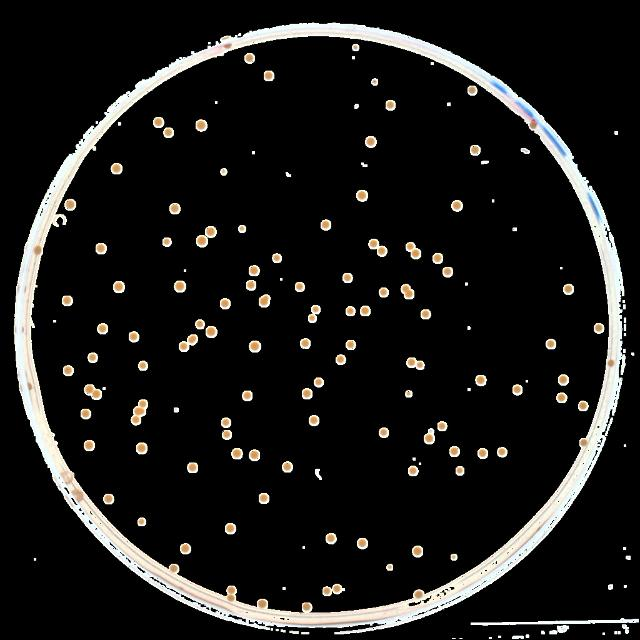colony: (187, 459, 199, 475), (168, 563, 180, 577), (134, 442, 148, 454), (248, 449, 260, 463), (112, 281, 126, 293), (256, 598, 268, 610), (225, 522, 237, 534), (282, 462, 294, 474), (511, 384, 523, 396), (356, 190, 368, 202), (248, 340, 260, 352), (259, 295, 271, 307), (196, 120, 208, 132), (152, 116, 164, 128), (95, 243, 107, 255), (174, 280, 186, 292), (102, 494, 116, 504), (327, 534, 338, 546), (301, 388, 313, 399), (477, 447, 488, 459), (206, 327, 218, 338), (110, 163, 122, 174), (84, 384, 95, 396), (242, 391, 252, 404), (414, 546, 424, 558), (412, 590, 424, 600), (179, 544, 191, 554), (232, 449, 242, 461), (309, 415, 319, 427), (556, 393, 568, 403), (558, 373, 568, 385), (476, 374, 486, 386), (563, 284, 573, 296), (452, 200, 462, 212), (471, 144, 481, 156), (364, 137, 376, 147), (411, 250, 423, 260), (379, 286, 389, 298), (306, 314, 318, 324), (300, 338, 310, 350), (220, 298, 230, 310), (248, 266, 260, 276), (243, 54, 255, 64), (64, 200, 76, 210), (34, 244, 44, 256), (133, 406, 145, 416), (128, 332, 140, 342), (178, 342, 190, 352), (197, 235, 207, 247), (205, 228, 217, 238), (357, 538, 368, 548), (332, 585, 343, 595), (221, 417, 231, 428), (442, 268, 453, 278), (81, 408, 91, 419), (92, 388, 102, 399), (88, 352, 98, 363), (98, 324, 109, 334), (171, 203, 181, 214), (376, 247, 388, 256), (379, 427, 389, 437), (314, 378, 324, 388), (424, 434, 434, 444), (450, 447, 460, 457), (577, 438, 587, 448), (385, 101, 395, 111), (369, 239, 379, 249), (433, 254, 443, 264), (422, 310, 432, 320), (406, 358, 416, 368), (336, 355, 346, 365), (345, 339, 355, 349), (360, 306, 370, 316), (404, 290, 414, 300), (246, 280, 256, 290), (264, 71, 274, 81), (163, 128, 173, 138), (62, 296, 72, 306), (63, 366, 73, 376), (138, 360, 148, 370), (226, 586, 238, 594), (408, 468, 418, 477), (85, 440, 94, 450), (222, 432, 232, 441), (497, 448, 507, 457), (546, 339, 556, 348), (468, 85, 477, 95), (322, 220, 331, 230), (438, 422, 447, 431), (322, 586, 332, 594), (260, 494, 268, 504), (138, 518, 146, 528), (456, 466, 464, 476), (579, 401, 587, 411), (607, 358, 615, 368), (594, 324, 602, 334), (406, 242, 414, 252), (404, 390, 414, 398), (346, 306, 354, 316), (401, 284, 411, 292), (343, 274, 353, 282), (296, 282, 304, 292), (312, 304, 320, 314), (272, 254, 282, 262), (195, 320, 205, 328), (187, 336, 197, 344), (163, 237, 171, 247), (304, 603, 312, 611), (606, 360, 614, 368), (220, 168, 228, 176), (139, 400, 147, 408), (132, 416, 140, 424), (448, 555, 458, 561), (227, 596, 237, 602), (415, 362, 425, 368), (238, 225, 246, 232), (372, 78, 378, 85), (385, 564, 391, 570), (353, 45, 359, 51), (428, 429, 434, 433), (355, 104, 359, 108), (174, 408, 178, 412), (251, 150, 255, 154), (448, 102, 450, 106), (432, 62, 434, 64)
